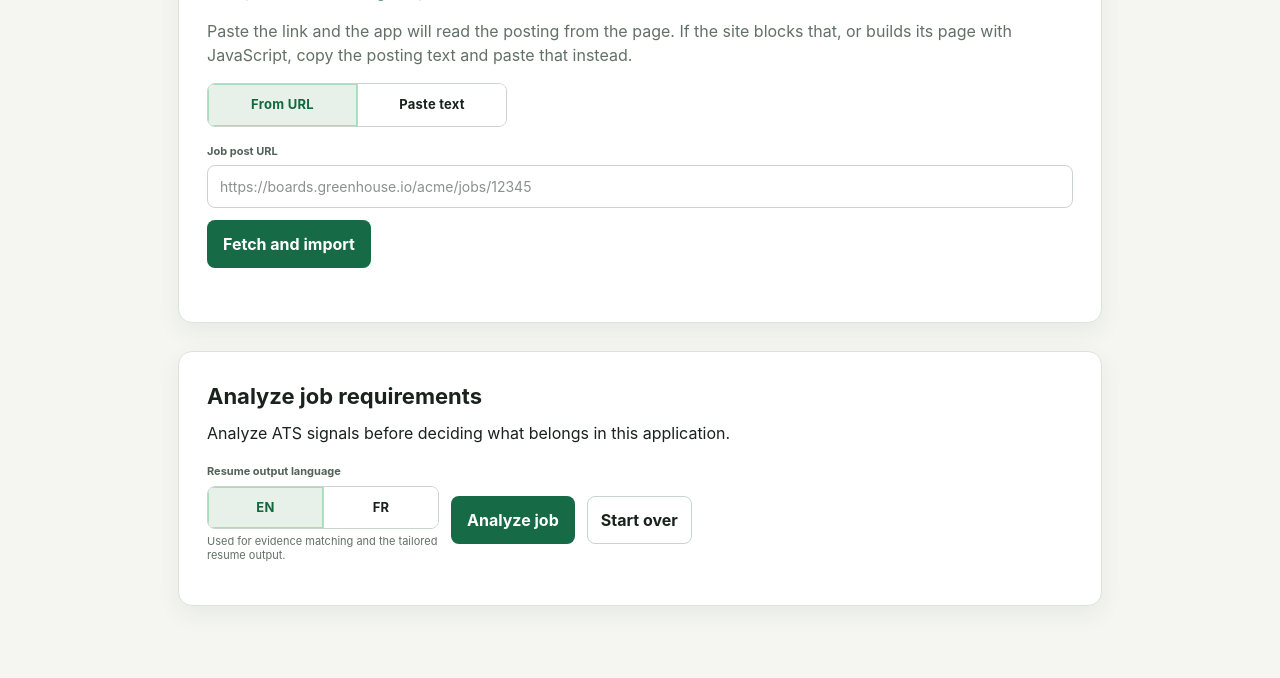
Test: starting over on a new job › keeps the result when the confirmation is declined
The image size is (1280, 678).
(page scrolled)
Step 1. Click the button "Analyze job" → (513, 520), box [451,496,575,544]
(page scrolled)
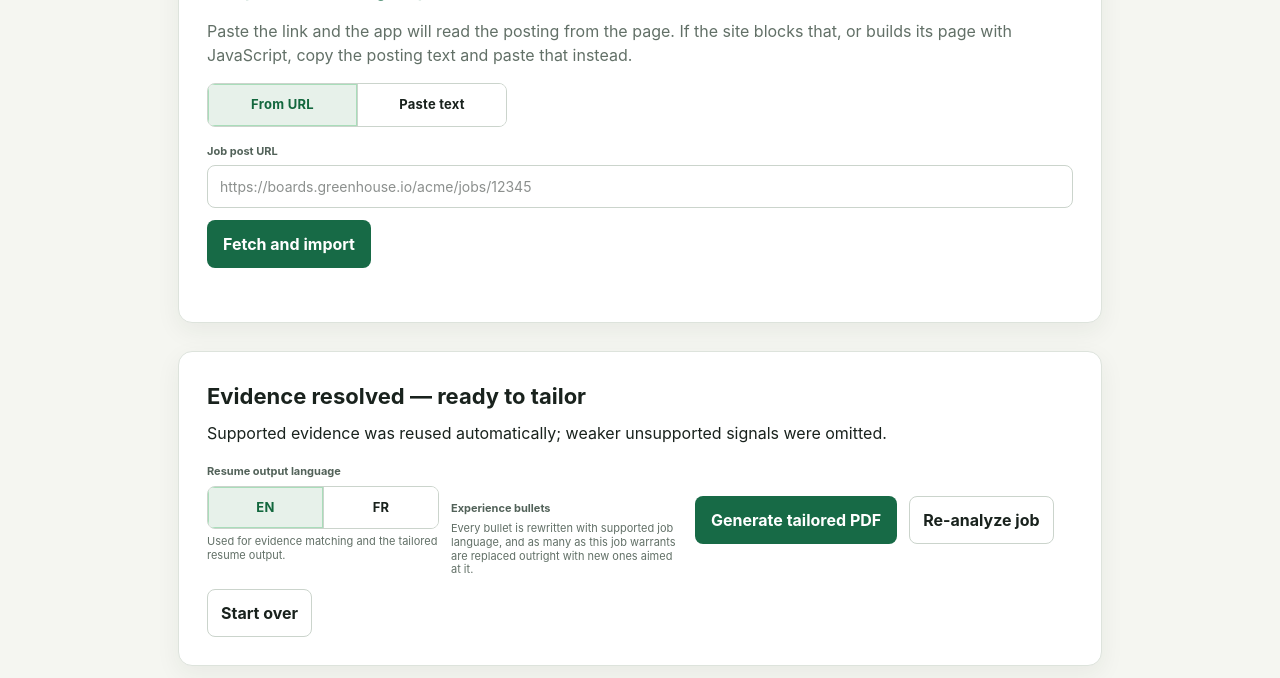
Step 2. Click the button "Generate tailored PDF" → (796, 520), box [695,496,897,544]
(page scrolled)
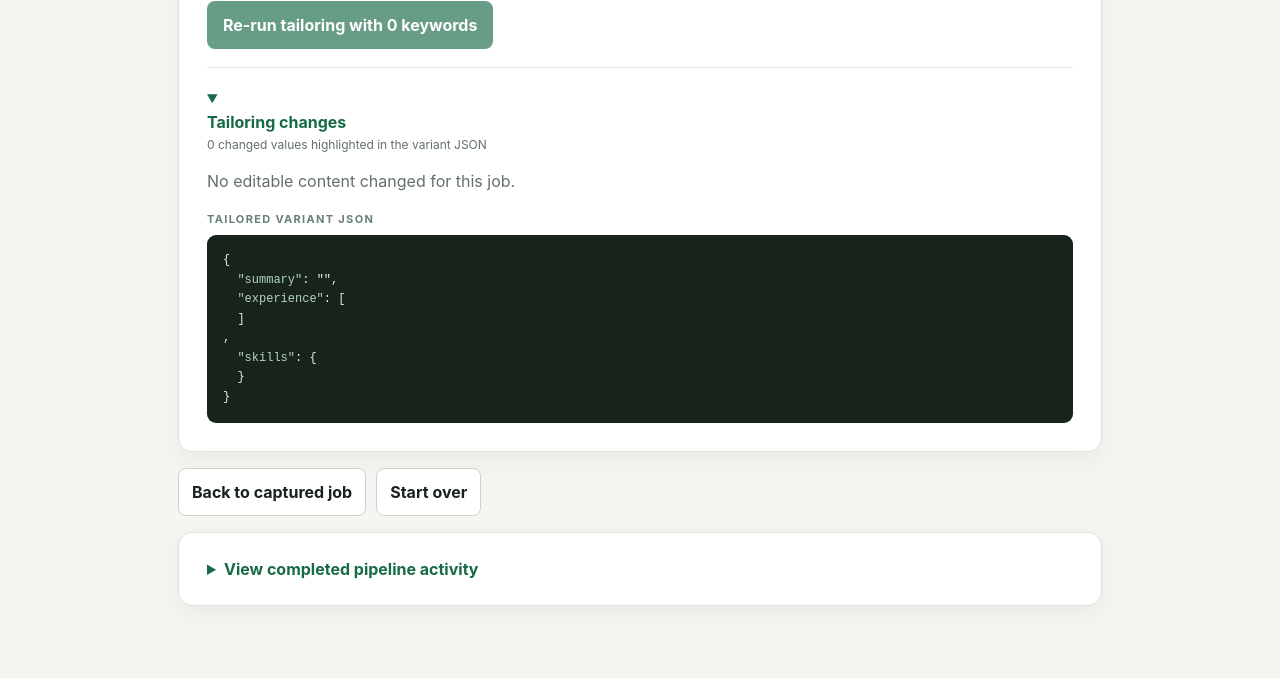
Step 3. Click the button with test id "start-over" → (429, 492), box [376,468,481,516]
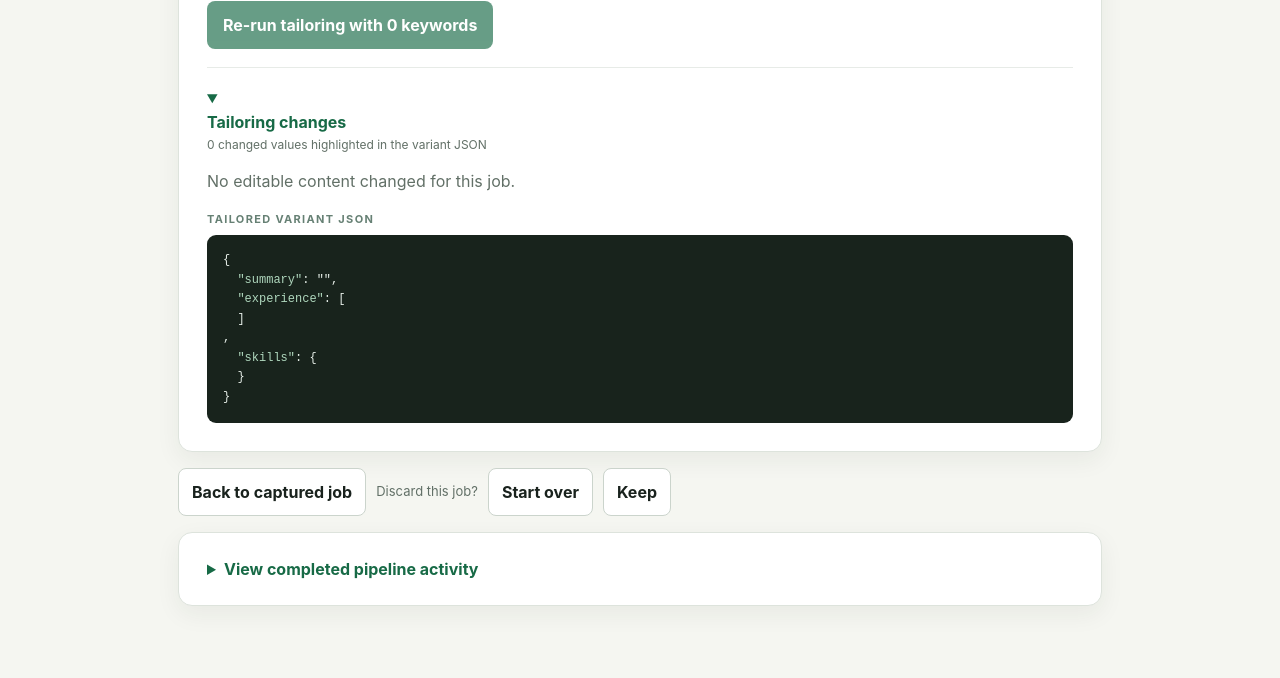
Step 4. Click the button "Keep" → (637, 492), box [603,468,671,516]
(page scrolled)
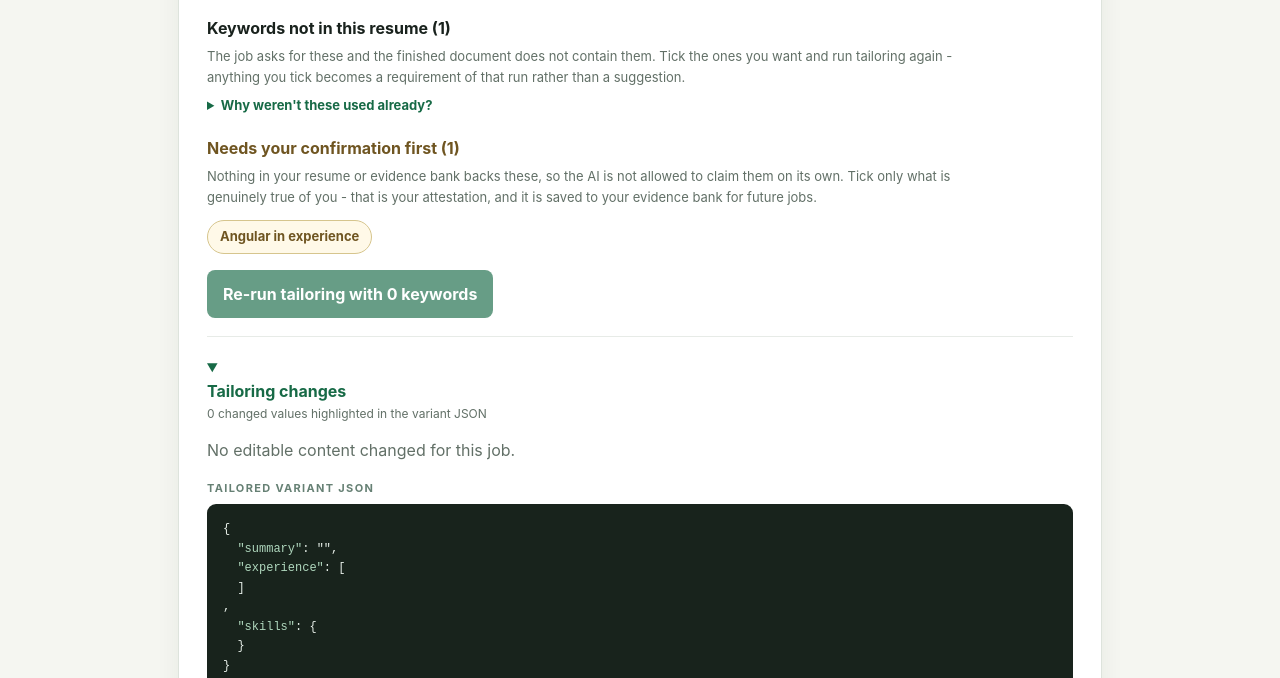
Now the text "Discard this job?" is gone
